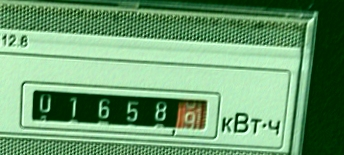0: (39, 92, 53, 114)
1: (69, 96, 80, 118)
5: (126, 99, 141, 123)
6: (97, 97, 112, 120)
8: (154, 99, 169, 122)
9: (182, 110, 196, 131)
screen: (14, 76, 228, 144)
